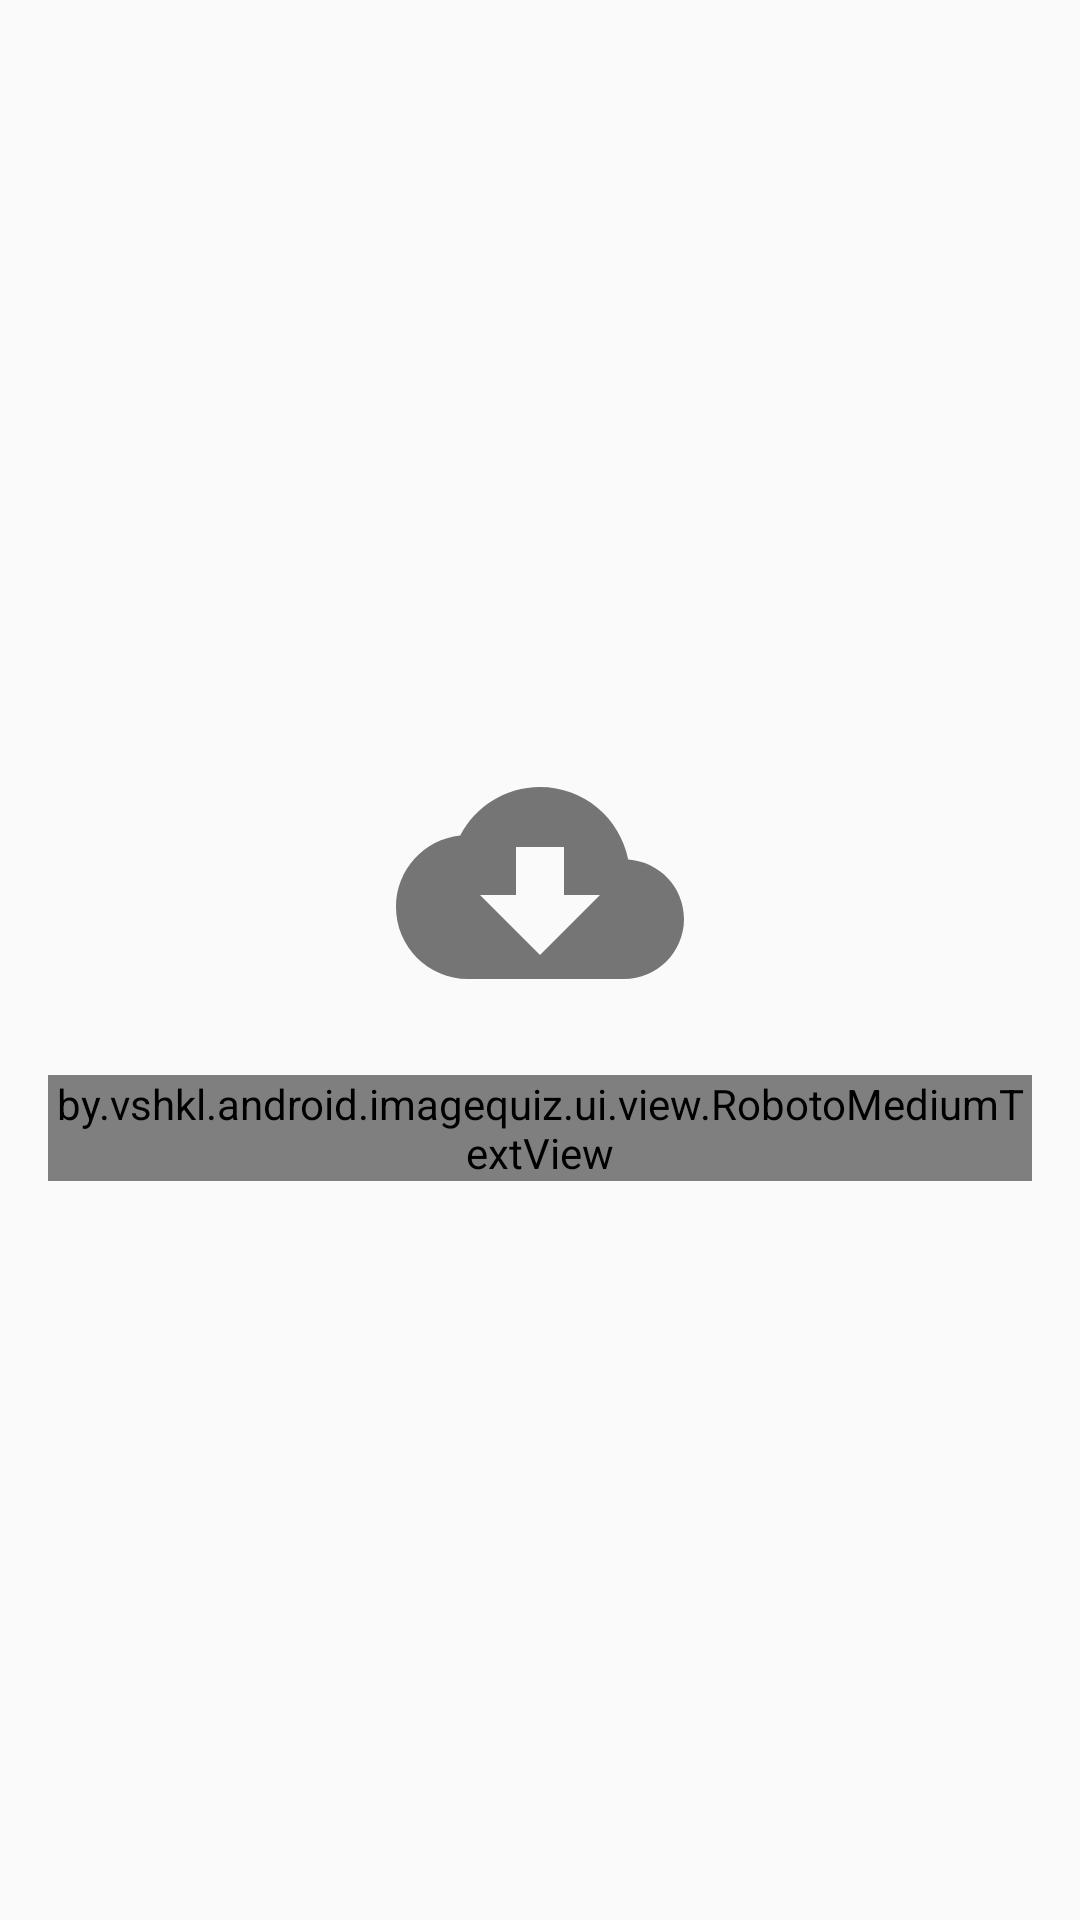

Screen size 1080 x 1920. Icon name, then its box in pixels as (x1, y1, x2, y2):
download: (396, 787, 684, 979)
